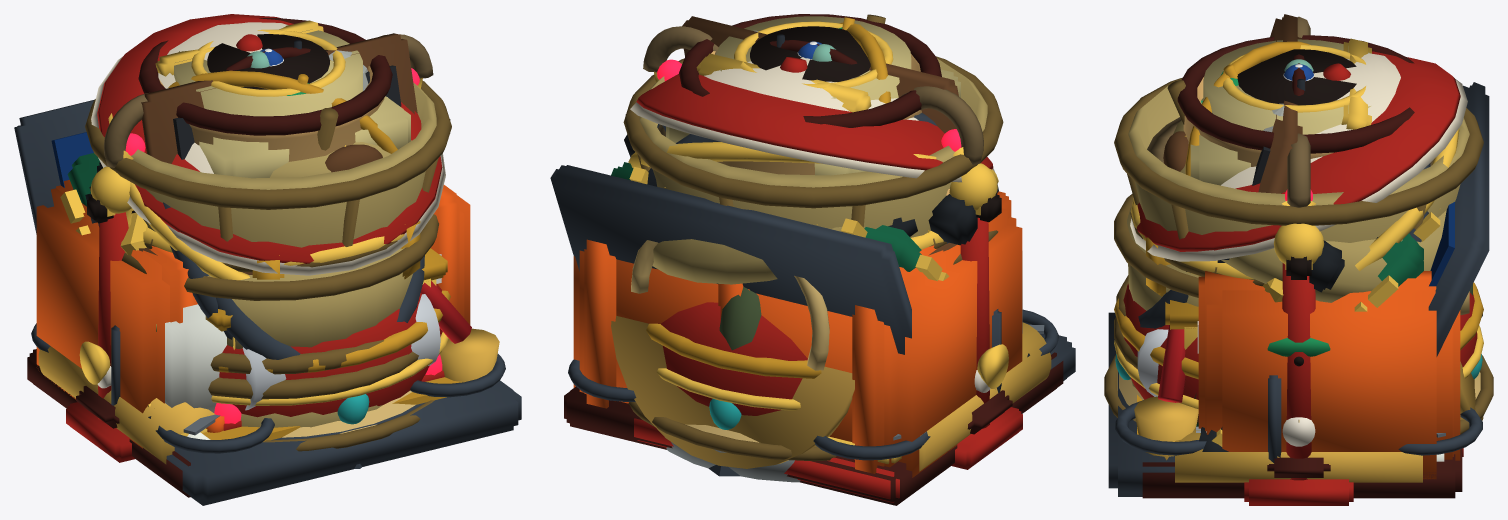
The model's file is v086_collectibles.glb.
The picture shows the model from 3 angles, left to right: view 1: azimuth 30°, elevation 25°; view 2: azimuth 150°, elevation 25°; view 3: azimuth 270°, elevation 25°; orthographic projection. The views are drawn at different scales.
Visible parts, largest first — view 1: loot_blackbox, loot_bamboo_basket, loot_quantum, loot_bamboo_steamer, loot_oil_paper_umbrella, loot_jade_cong, loot_bamboo_carving, loot_imperial_jade_seal, loot_cinnabar_box, loot_bronze_chime, loot_rubbing, loot_landscape_scroll (+18 smaller); view 2: loot_blackbox, loot_quantum, loot_bamboo_basket, loot_oil_paper_umbrella, loot_compass_sundial, loot_cinnabar_box, loot_jade_cong, loot_bronze_chime, loot_ivory_chess, loot_bamboo_carving, loot_bamboo_steamer, loot_landscape_scroll (+16 smaller); view 3: loot_blackbox, loot_oil_paper_umbrella, loot_bamboo_basket, loot_quantum, loot_jade_cong, loot_bronze_chime, loot_bamboo_steamer, loot_bamboo_carving, loot_landscape_scroll, loot_ivory_chess, loot_imperial_jade_seal, loot_quantum_prism (+19 smaller).
Boxes of the visible parts, x1,y1,x2,y2 form: loot_blackbox: (36, 180, 470, 448); loot_bamboo_basket: (85, 80, 451, 272); loot_quantum: (14, 99, 521, 505); loot_bamboo_steamer: (121, 140, 438, 427); loot_oil_paper_umbrella: (91, 14, 445, 275); loot_jade_cong: (174, 25, 410, 178); loot_bamboo_carving: (138, 18, 392, 172); loot_imperial_jade_seal: (165, 281, 499, 436); loot_cinnabar_box: (211, 284, 448, 417); loot_bronze_chime: (66, 119, 450, 462); loot_rubbing: (141, 33, 417, 163); loot_landscape_scroll: (38, 346, 215, 464); loot_blackbox: (573, 191, 1022, 477); loot_quantum: (550, 165, 1075, 380); loot_bamboo_basket: (623, 56, 1003, 370); loot_oil_paper_umbrella: (630, 14, 994, 182); loot_compass_sundial: (611, 316, 854, 468); loot_cinnabar_box: (656, 302, 807, 415); loot_jade_cong: (666, 16, 960, 175); loot_bronze_chime: (625, 114, 1022, 469); loot_ivory_chess: (564, 352, 1063, 505); loot_bamboo_carving: (679, 14, 941, 174); loot_bamboo_steamer: (652, 226, 998, 284); loot_landscape_scroll: (919, 322, 1051, 471); loot_blackbox: (1137, 271, 1460, 479); loot_oil_paper_umbrella: (1130, 51, 1467, 261); loot_bamboo_basket: (1114, 77, 1483, 315); loot_quantum: (1108, 82, 1489, 496); loot_jade_cong: (1190, 39, 1370, 185); loot_bronze_chime: (1244, 223, 1353, 505); loot_bamboo_steamer: (1114, 120, 1446, 388); loot_bamboo_carving: (1163, 35, 1414, 171); loot_landscape_scroll: (1175, 428, 1444, 482); loot_ivory_chess: (1142, 448, 1462, 498); loot_imperial_jade_seal: (1134, 325, 1463, 460); loot_quantum_prism: (1185, 41, 1459, 271).
Bounding box in the file's own units: 0.38 × 0.36 × 0.358.
